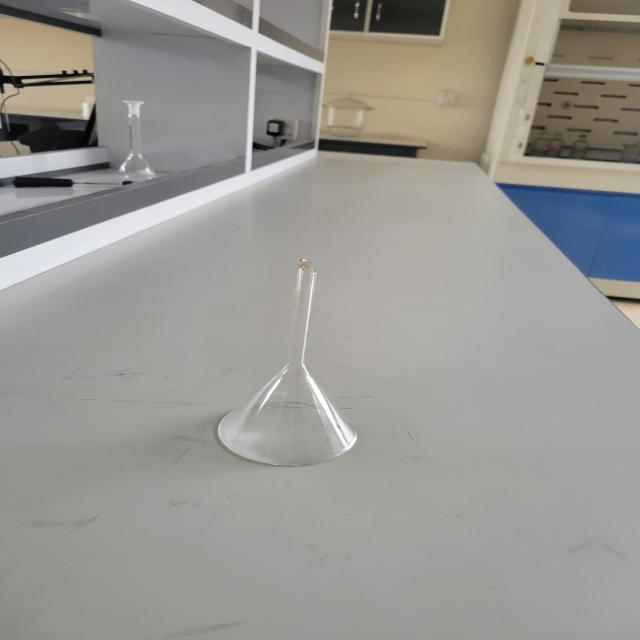Funnel: (189, 224, 380, 504)
